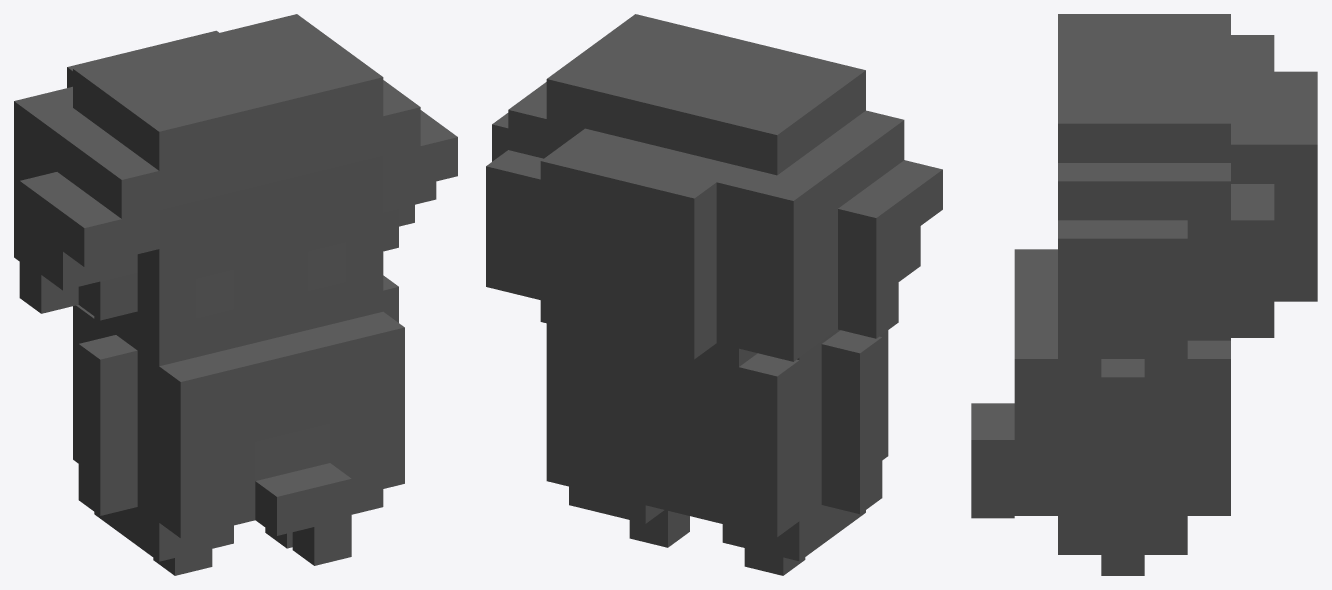
The model's file is chr_naked4.obj.
The picture shows the model from 3 angles, left to right: view 1: azimuth 30°, elevation 25°; view 2: azimuth 150°, elevation 25°; view 3: azimuth 270°, elevation 25°; orthographic projection. The views are drawn at different scales.
Bounding box in the file's own units: 10 × 12 × 8.
